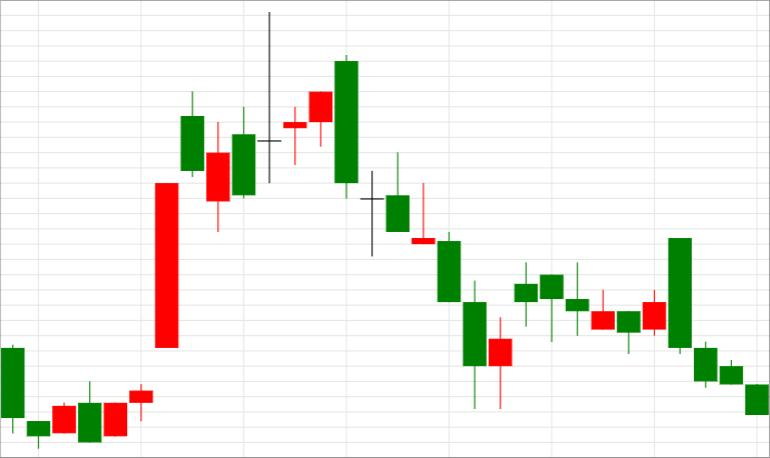bearish_engulfing_fall: (206, 12, 359, 232)
